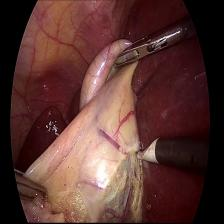Grasper: (112, 21, 187, 70), (13, 167, 50, 206)
Hook: (136, 135, 162, 175)
